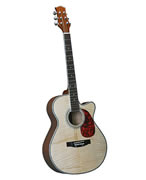guitar: (42, 5, 107, 175)
